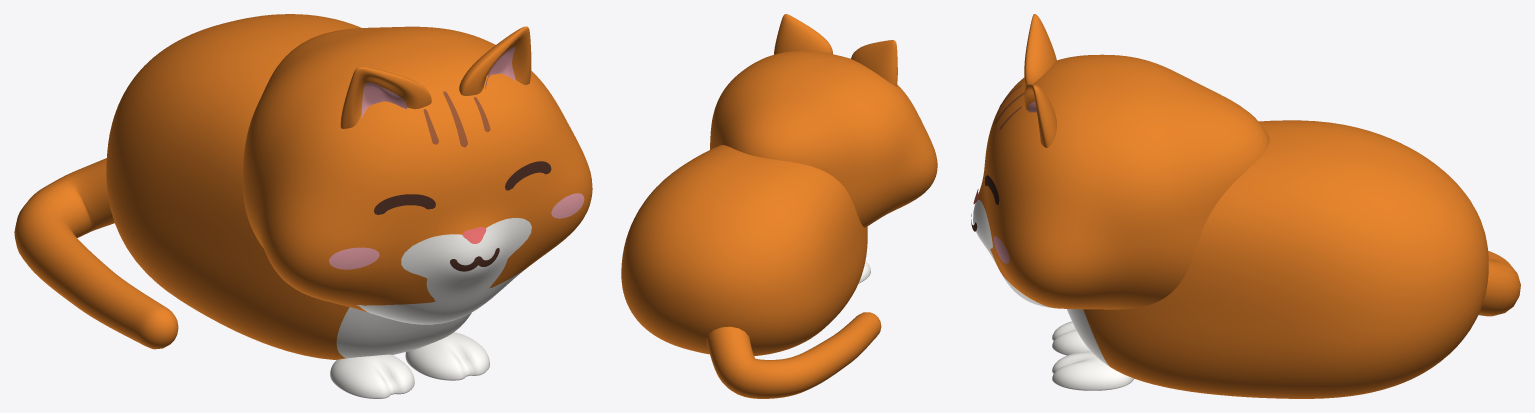
File: mochi.glb
The picture shows the model from 3 angles, left to right: view 1: azimuth 30°, elevation 25°; view 2: azimuth 150°, elevation 25°; view 3: azimuth 270°, elevation 25°; orthographic projection. The views are drawn at different scales.
Parts seen in each view (by area): view 1: Head, Loaf, Tail, Face, EarR, PawR, PawL, EarL; view 2: Loaf, Head, Tail, EarL, EarR; view 3: Loaf, Head, PawL, Tail, EarR, EarL, PawR, Face.
Boxes of the visible parts, left/top/right/bottom form: Head: left=242, top=26, right=592, bottom=324; Loaf: left=106, top=14, right=471, bottom=359; Tail: left=14, top=158, right=178, bottom=349; Face: left=329, top=91, right=584, bottom=271; EarR: left=340, top=66, right=431, bottom=128; PawR: left=330, top=354, right=414, bottom=398; PawL: left=405, top=332, right=489, bottom=380; EarL: left=459, top=26, right=531, bottom=95; Loaf: left=621, top=145, right=867, bottom=355; Head: left=710, top=51, right=937, bottom=227; Tail: left=706, top=312, right=881, bottom=398; EarL: left=774, top=14, right=832, bottom=54; EarR: left=851, top=40, right=897, bottom=86; Loaf: left=1067, top=120, right=1488, bottom=398; Head: left=973, top=54, right=1269, bottom=309; PawL: left=1052, top=351, right=1133, bottom=390; Tail: left=1478, top=250, right=1520, bottom=316; EarR: left=1024, top=14, right=1056, bottom=86; EarL: left=1024, top=84, right=1056, bottom=147; PawR: left=1052, top=321, right=1090, bottom=355; Face: left=971, top=85, right=1024, bottom=263.
Bounding box in the file's own units: 0.4291 × 0.4084 × 0.6584.
